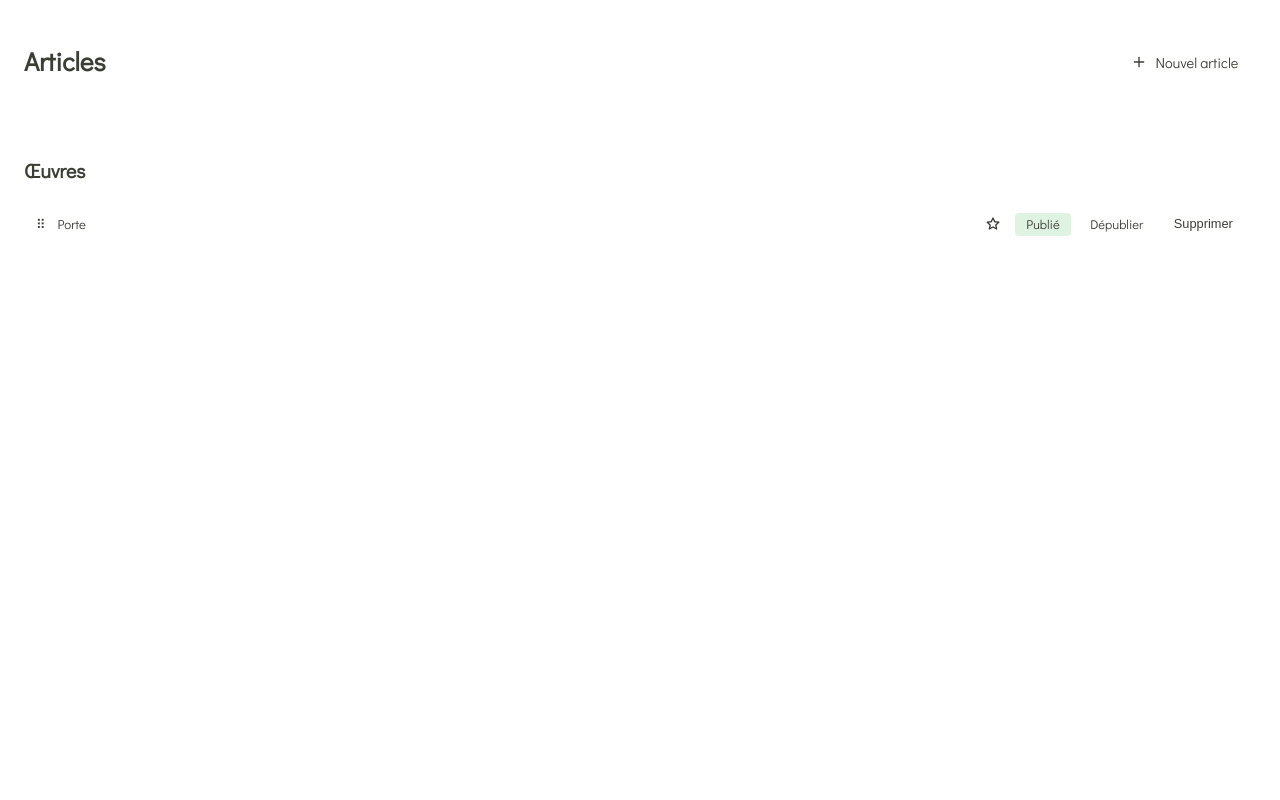
Test: ArticleList › deletes an article from its row only after confirming
Expected: the link "Porte" is shown, [58, 215, 86, 232]
What coordinates should you click on to do the following:
click the button "Supprimer"
I would click on:
 (1203, 224)
Its box is [1163, 213, 1244, 236].
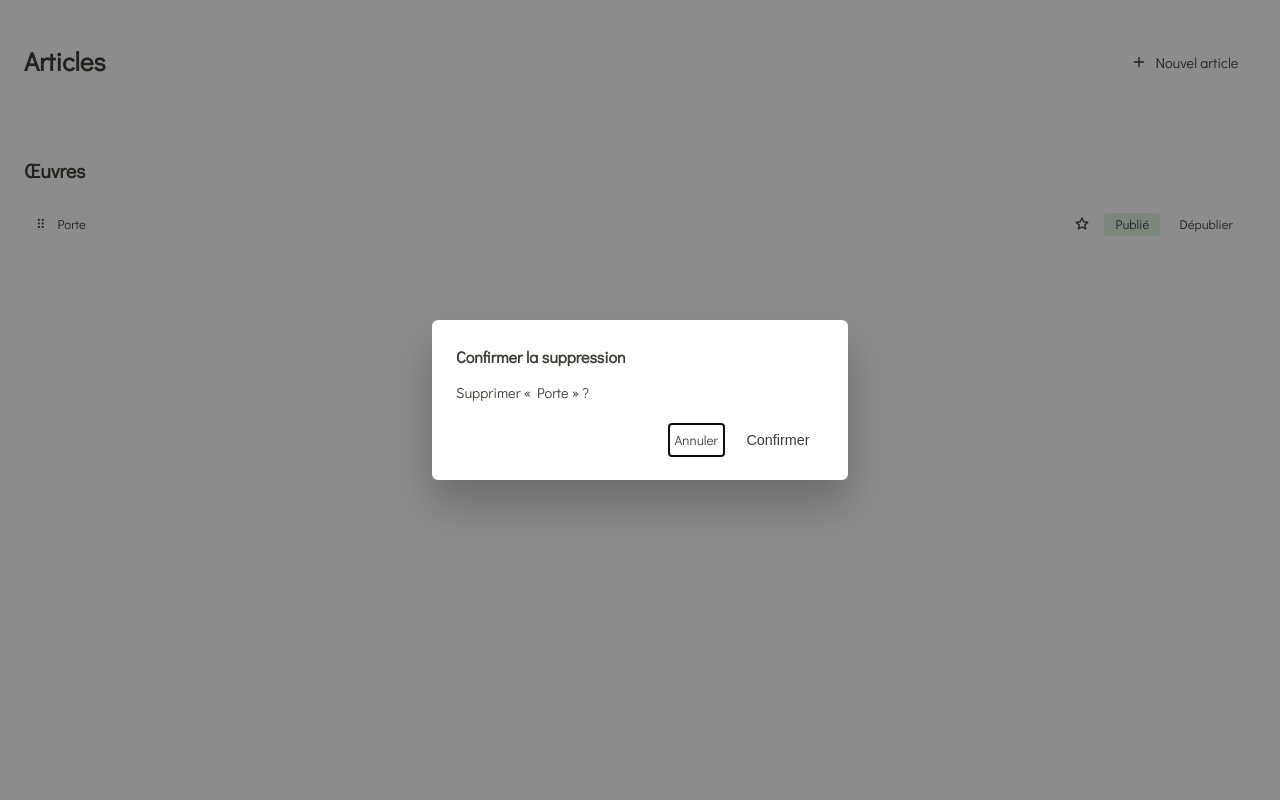
What coordinates should you click on to do the following:
click the button "Confirmer"
I would click on:
 (778, 440)
Its box is [732, 424, 824, 456].
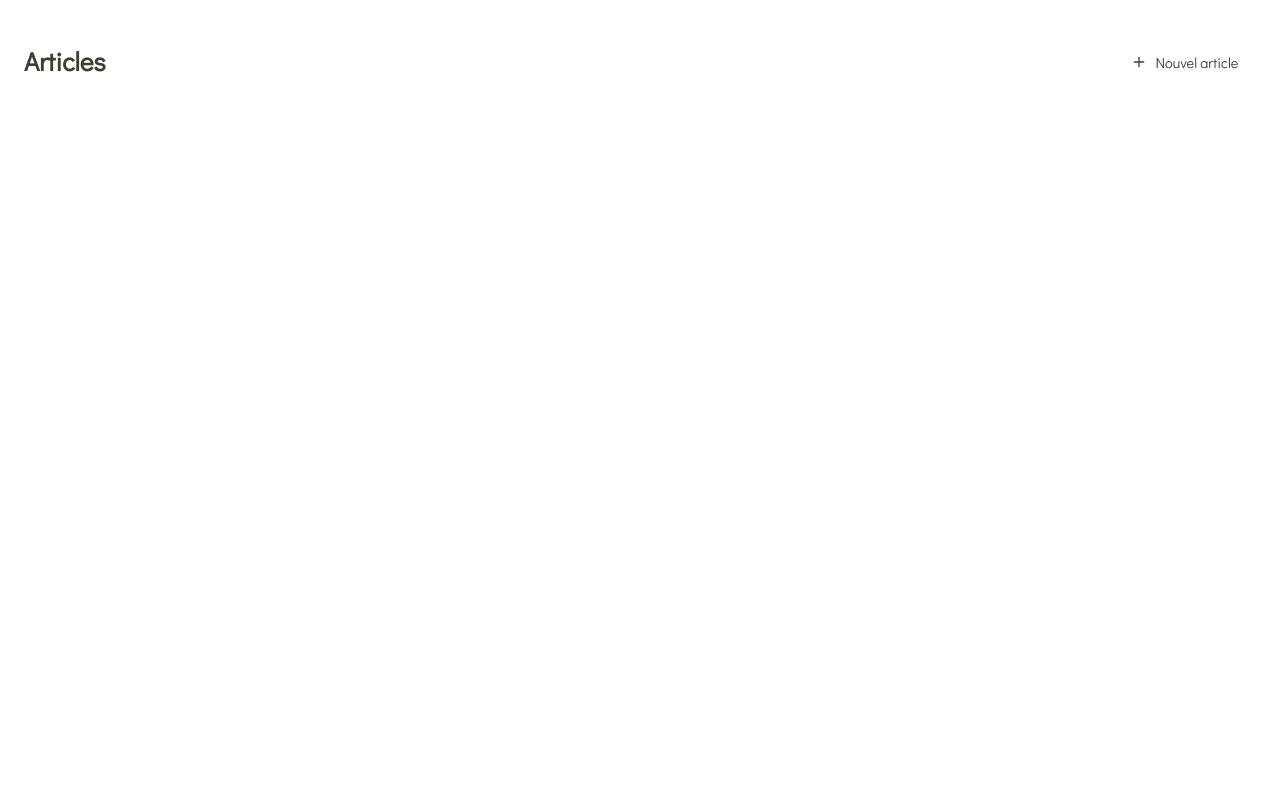
Now the link "Porte" is gone
